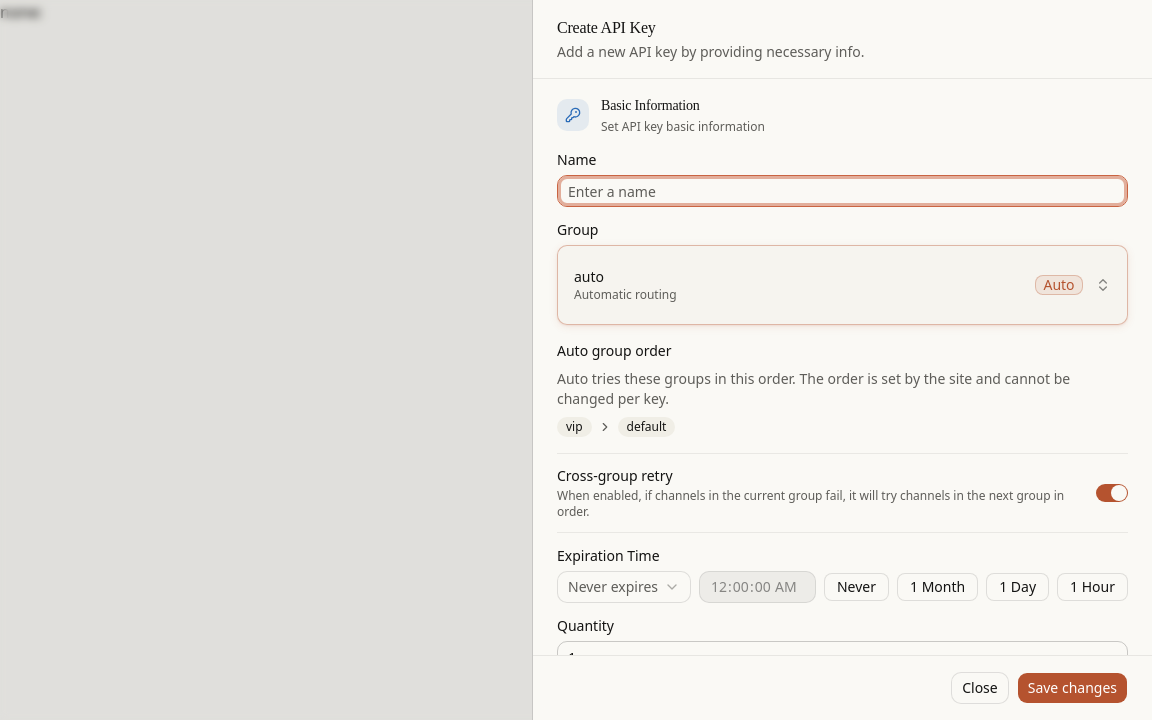
it: API keys mutate drawer user quota query switch › opens the setup guide for a single new key
The image size is (1152, 720).
Expected: the button "Save changes" is enabled, [1017, 672, 1128, 704]
In the field labelled "Name": (842, 191) [557, 175, 1128, 207], type "laptop"
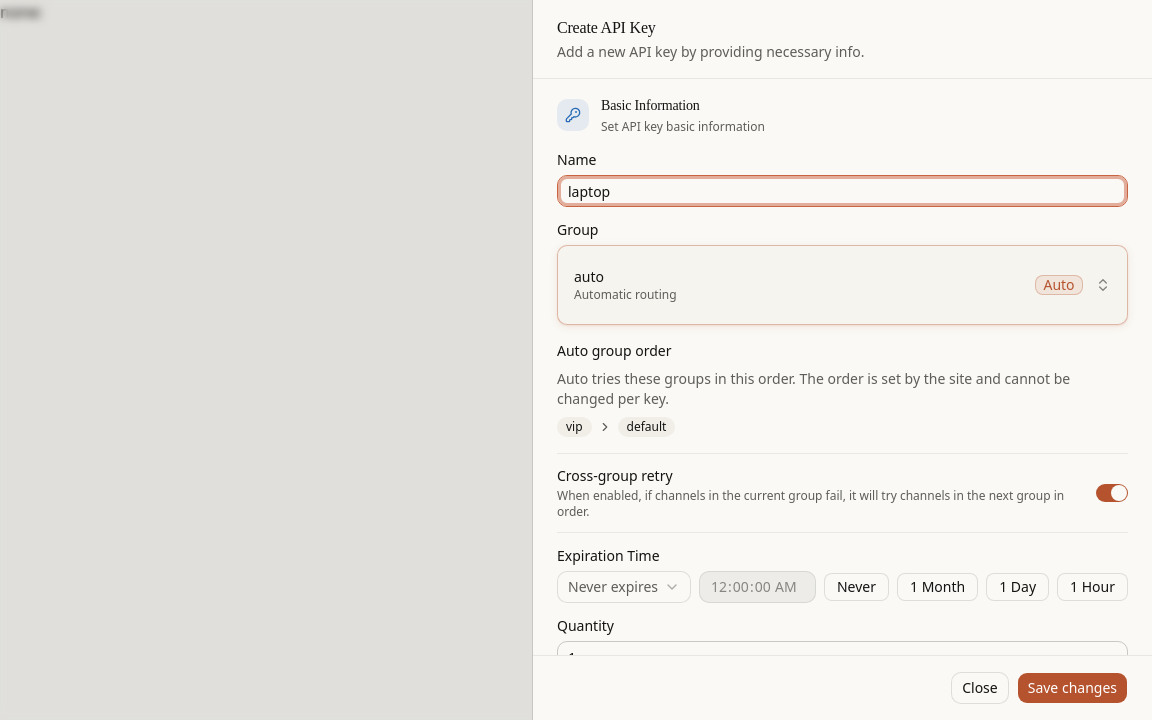
Click the button "Save changes": (1072, 688) [1017, 672, 1128, 704]
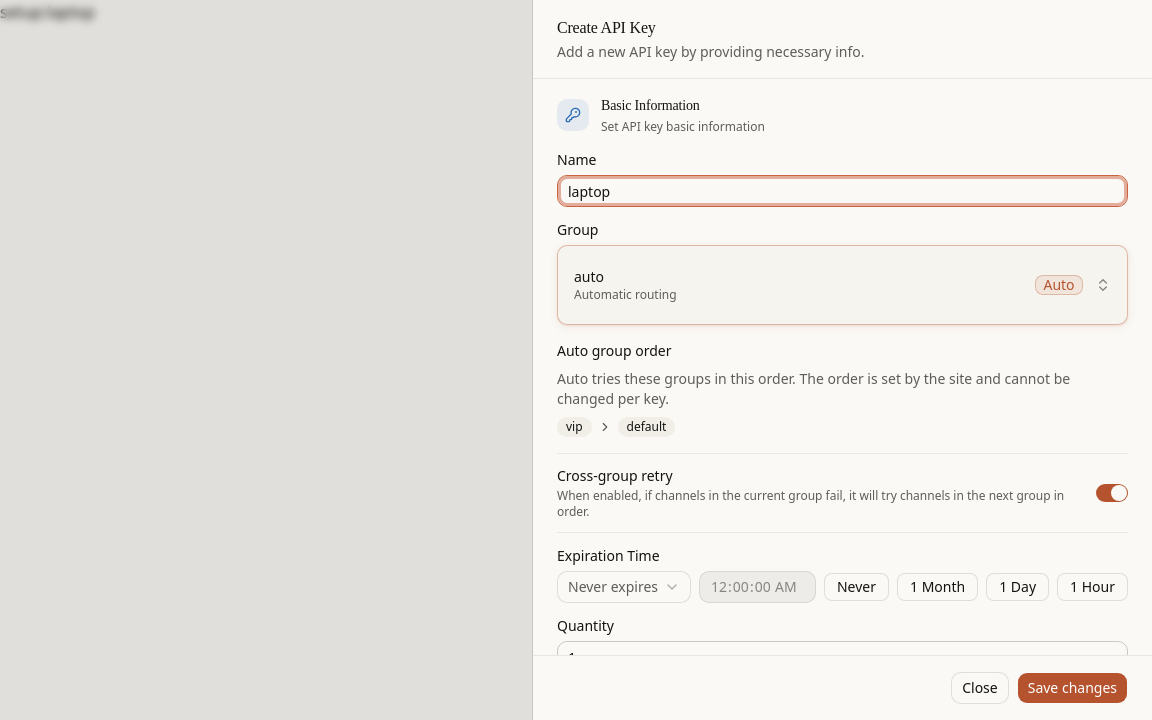
Expected: the text with test id "dialog-probe" reads "setup:laptop", [0, 1, 95, 23]
